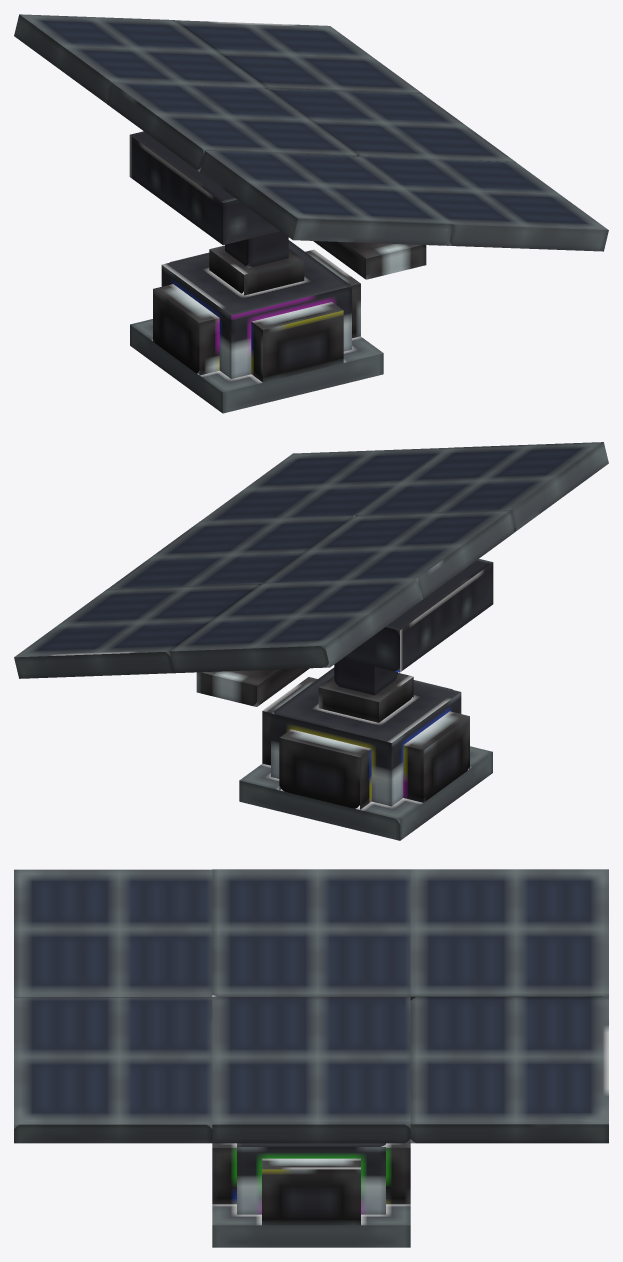
File: solar_panel.obj
3 renders of one model, top to bottom at view 1: azimuth 30°, elevation 25°; view 2: azimuth 150°, elevation 25°; view 3: azimuth 270°, elevation 25°, orthographic. The views are drawn at different scales.
Parts seen in each view (by area): view 1: bone13, bone5, bone3, bone6, bone2, bone4, bone, bone10, pivotZ, bone12, bone8; view 2: bone13, bone6, bone4, bone2, bone5, bone3, bone, bone10, pivotZ, bone12, bone9; view 3: bone, bone3, bone4, bone6, bone5, bone2, bone13, bone10.
Boxes of the visible parts, <box> form: bone13: <box>130,249,383,413</box>; bone5: <box>200,150,453,245</box>; bone3: <box>361,156,608,251</box>; bone6: <box>14,14,267,103</box>; bone2: <box>107,82,359,171</box>; bone4: <box>175,20,422,93</box>; bone: <box>268,88,515,162</box>; bone10: <box>161,240,351,378</box>; pivotZ: <box>129,131,370,244</box>; bone12: <box>209,231,304,295</box>; bone8: <box>313,241,426,279</box>; bone13: <box>239,677,492,840</box>; bone6: <box>169,577,422,673</box>; bone4: <box>14,584,259,678</box>; bone2: <box>263,510,515,599</box>; bone5: <box>355,442,608,531</box>; bone3: <box>200,448,447,521</box>; bone: <box>107,515,355,589</box>; bone10: <box>271,667,461,806</box>; pivotZ: <box>258,559,493,672</box>; bone12: <box>318,658,413,722</box>; bone9: <box>196,668,309,706</box>; bone: <box>212,997,410,1143</box>; bone3: <box>14,997,212,1143</box>; bone4: <box>410,997,608,1143</box>; bone6: <box>410,869,608,1000</box>; bone5: <box>14,869,212,996</box>; bone2: <box>212,869,410,996</box>; bone13: <box>212,1143,410,1247</box>; bone10: <box>237,1143,385,1214</box>.
Size of the model in its own units: 1.96 by 1.59 by 3.
Materials: 1 (1 with a texture image).
